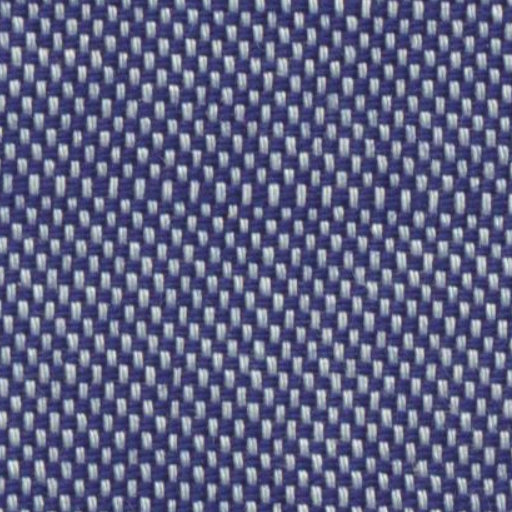TuoSha: (12, 142, 490, 230)
